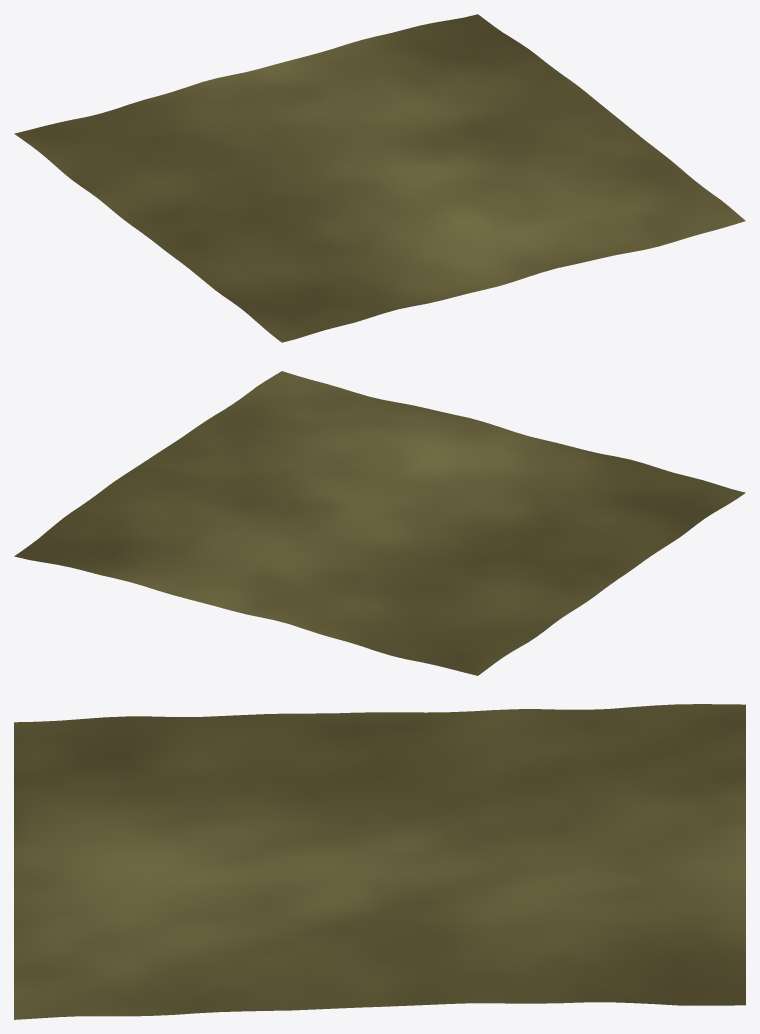
File: terrain_lod0_-5_1.obj
The picture shows the model from 3 angles, top to bottom: view 1: azimuth 30°, elevation 25°; view 2: azimuth 150°, elevation 25°; view 3: azimuth 270°, elevation 25°; orthographic projection. The views are drawn at different scales.
Visible parts, largest first — view 1: terrain_lod0_-5_1; view 2: terrain_lod0_-5_1; view 3: terrain_lod0_-5_1.
Part boxes in pixels (x1,y1,x2,y2): terrain_lod0_-5_1: (14, 14, 745, 342); terrain_lod0_-5_1: (14, 371, 745, 675); terrain_lod0_-5_1: (14, 704, 745, 1019).
Bounding box in the file's own units: 128 × 5.86 × 128.
